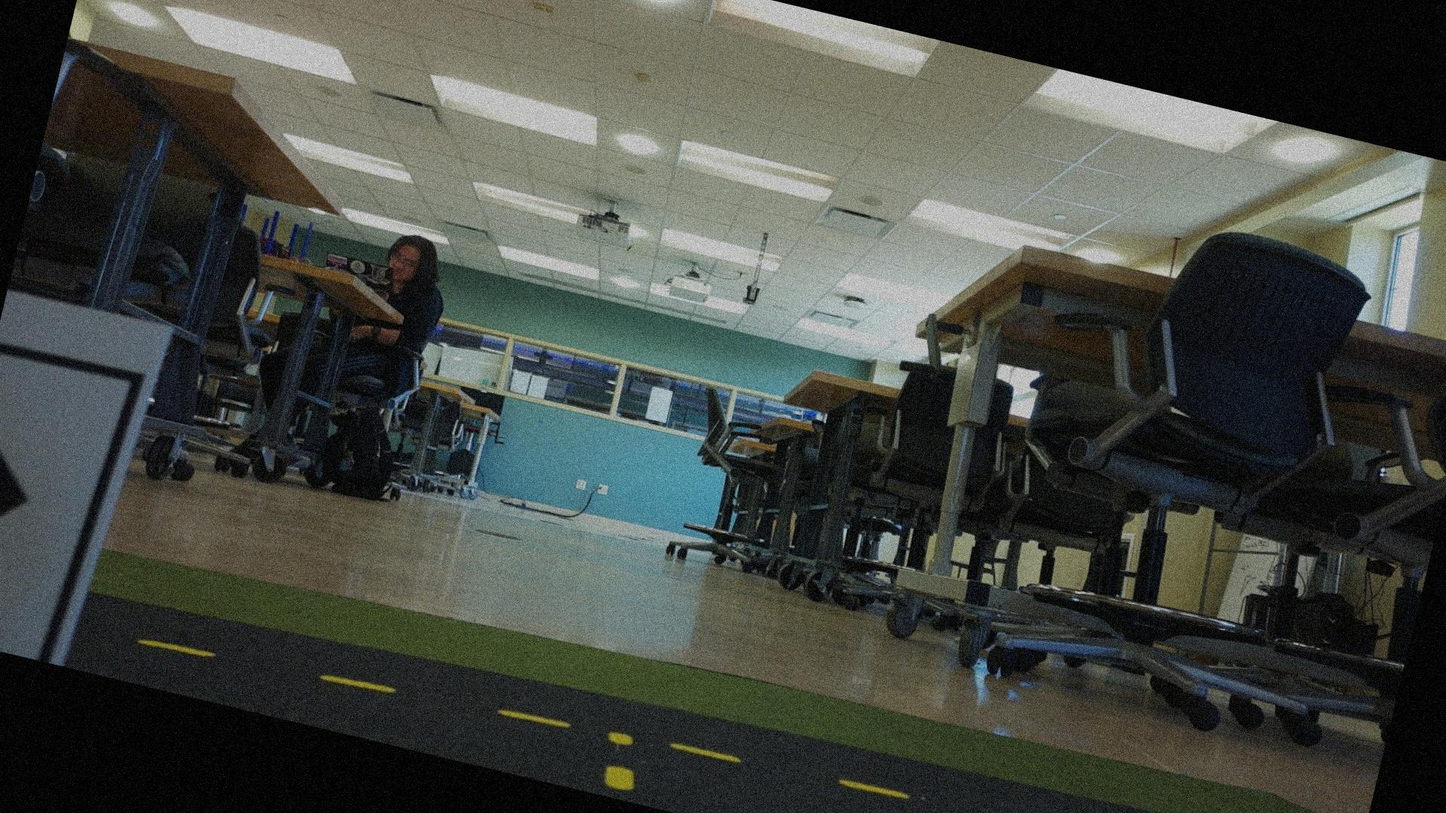yellowline: (142, 589, 1353, 812)
